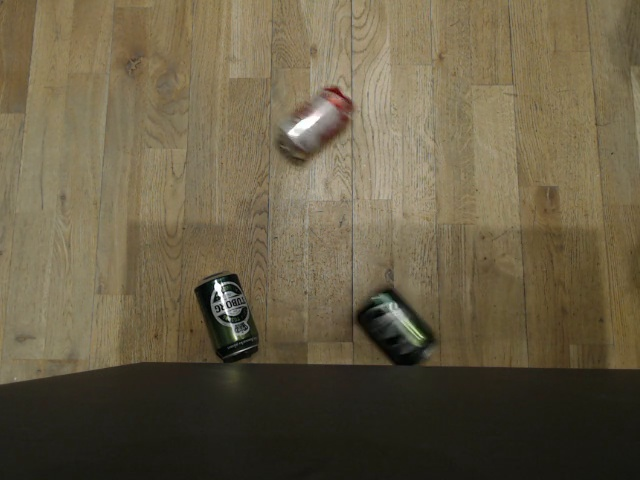beer: (351, 284, 435, 364), (192, 269, 259, 360)
cola: (273, 85, 356, 162)
